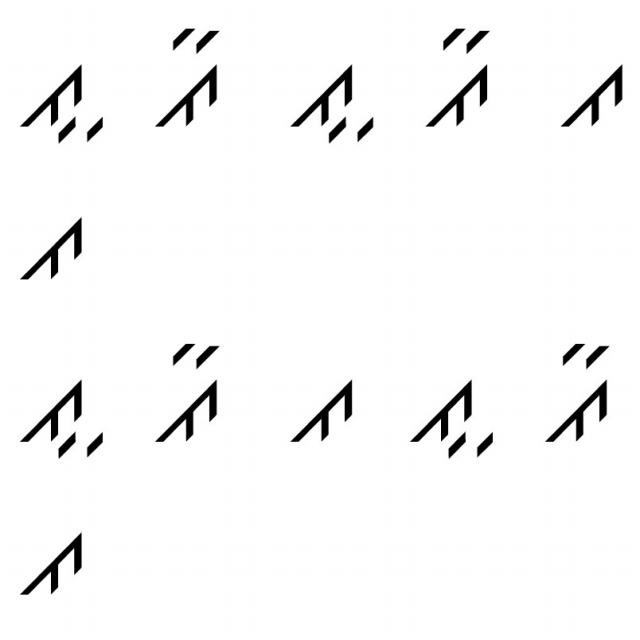ka: (286, 357, 365, 457), (12, 206, 92, 293), (15, 522, 95, 608), (551, 57, 626, 142)
kah: (395, 371, 506, 463), (284, 52, 384, 154), (7, 364, 108, 459), (20, 49, 109, 153)
kan: (408, 14, 503, 136), (144, 21, 228, 139), (143, 337, 226, 453), (543, 338, 615, 451)
